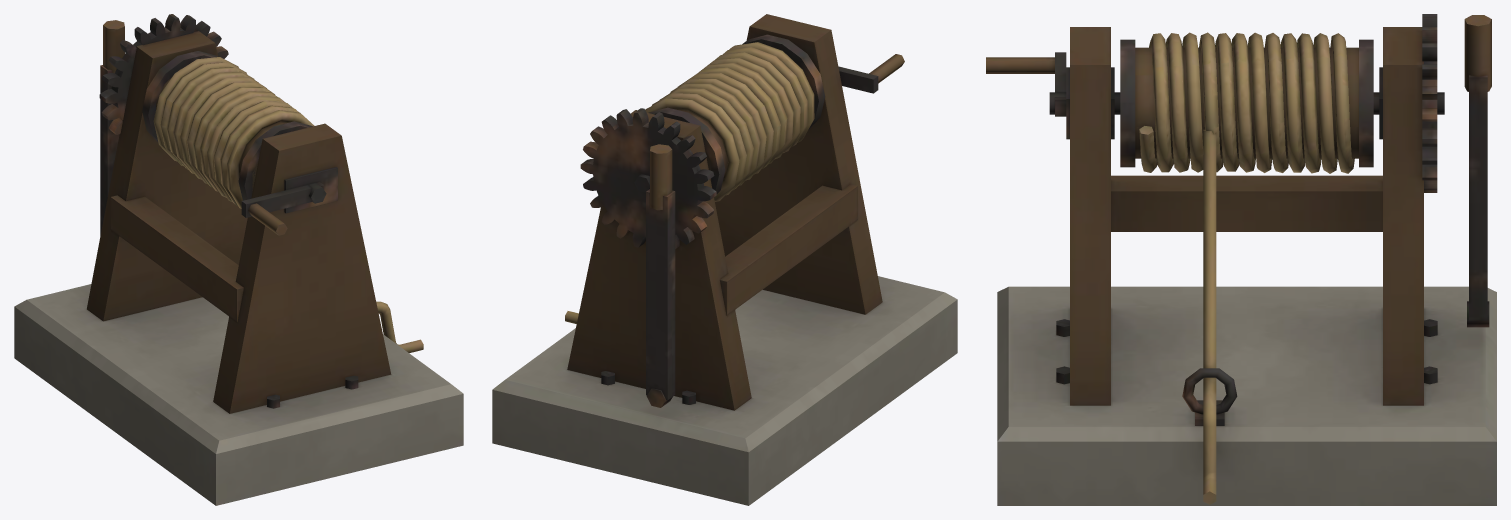
The model's file is winch.glb.
3 views of the same model, side by side, from view 1: azimuth 30°, elevation 25°; view 2: azimuth 150°, elevation 25°; view 3: azimuth 270°, elevation 25° (orthographic). The views are drawn at different scales.
Visible parts, largest first — view 1: winch.001; view 2: winch.001; view 3: winch.001.
Boxes of the visible parts, x1=… form: winch.001: x1=14, y1=14, x2=463, y2=505; winch.001: x1=492, y1=14, x2=957, y2=505; winch.001: x1=986, y1=14, x2=1496, y2=505.
Size of the model in its own units: 1.12 by 1.21 by 1.37.
1 material, 1 textured.
